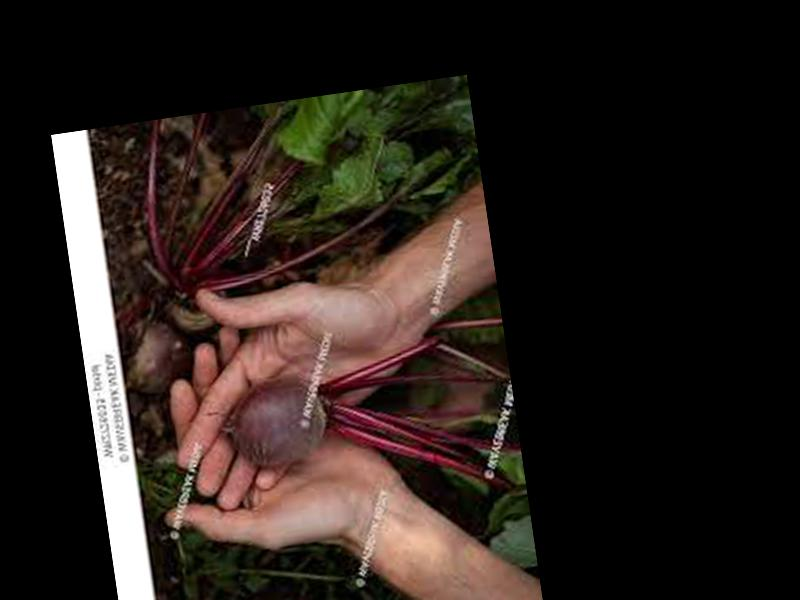Beet: (212, 326, 518, 533)
